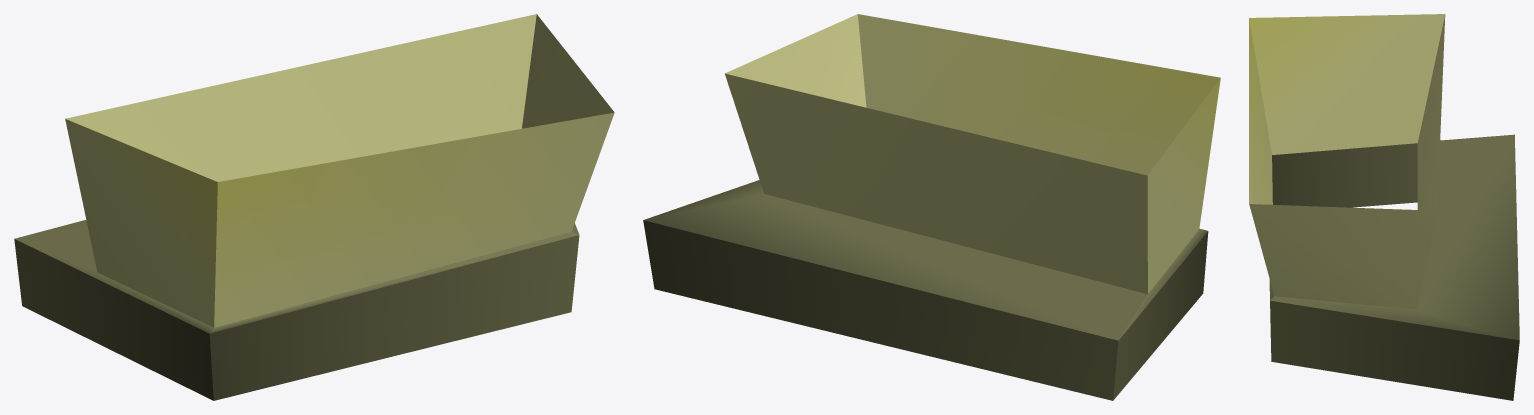
Rendered from c_house_body_square_ab.fbx.
The picture shows the model from 3 angles, left to right: view 1: azimuth 30°, elevation 25°; view 2: azimuth 150°, elevation 25°; view 3: azimuth 270°, elevation 25°; orthographic projection. The views are drawn at different scales.
Visible parts, largest first — view 1: c_house_body_square_ab; view 2: c_house_body_square_ab; view 3: c_house_body_square_ab.
Boxes of the visible parts, <box> form: c_house_body_square_ab: <box>14,14,614,400</box>; c_house_body_square_ab: <box>643,14,1220,400</box>; c_house_body_square_ab: <box>1249,14,1519,400</box>.
Size of the model in its own units: 9.11 by 3.86 by 4.91.
